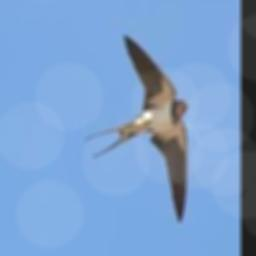Swallow: (85, 35, 190, 223)
